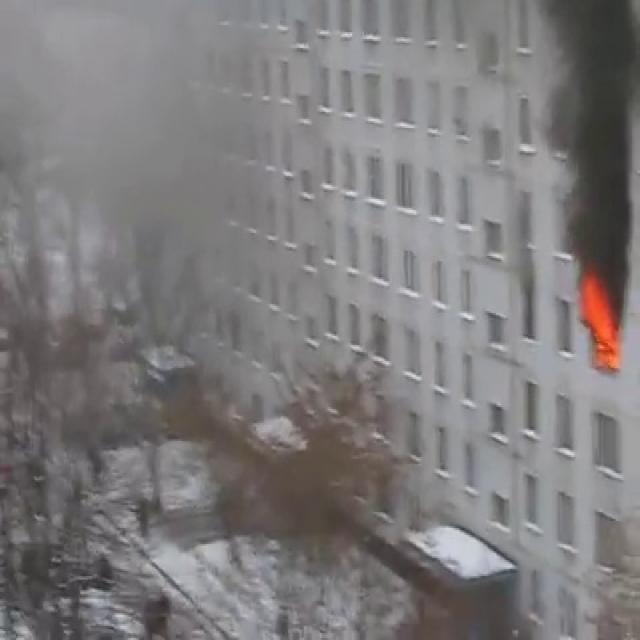Fire: (576, 262, 624, 370)
Smoke: (0, 0, 351, 542), (505, 0, 640, 288)
